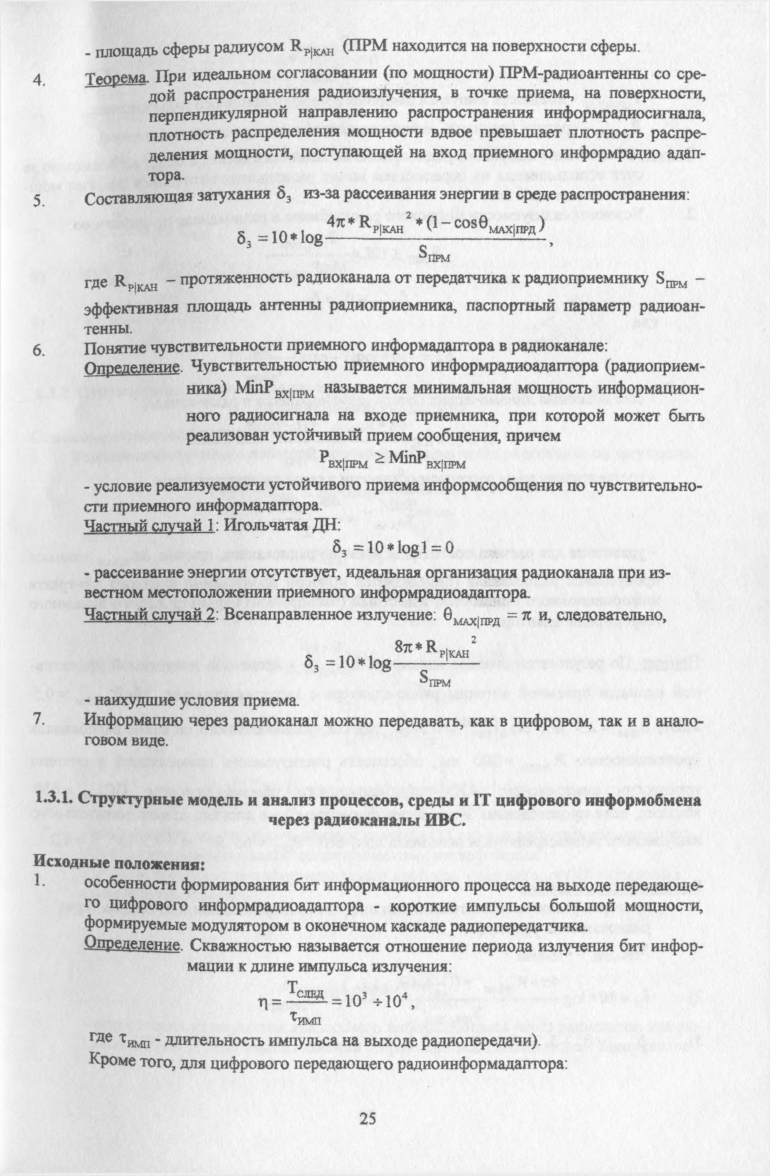R.р.кан: (423, 636, 470, 662), (360, 211, 406, 234)
S.прм: (415, 242, 454, 268), (413, 672, 452, 691)
group: (216, 203, 556, 272)
δ.3: (232, 226, 254, 252), (301, 650, 322, 677)
θ.max.прд: (480, 211, 537, 237)
